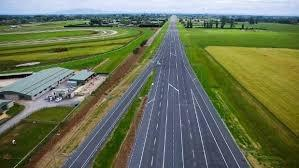field: (177, 23, 298, 166), (177, 24, 298, 166), (95, 73, 153, 165), (0, 107, 71, 166)
road: (128, 17, 249, 167), (60, 62, 153, 168)
